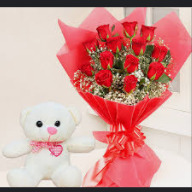RedRose: (150, 43, 171, 68), (148, 62, 169, 83), (139, 24, 158, 44), (130, 37, 148, 56), (95, 23, 113, 42), (107, 36, 125, 55), (96, 69, 113, 88), (122, 54, 139, 72), (121, 19, 137, 38), (79, 61, 96, 78), (99, 51, 115, 69), (123, 75, 138, 94), (83, 38, 98, 55)
